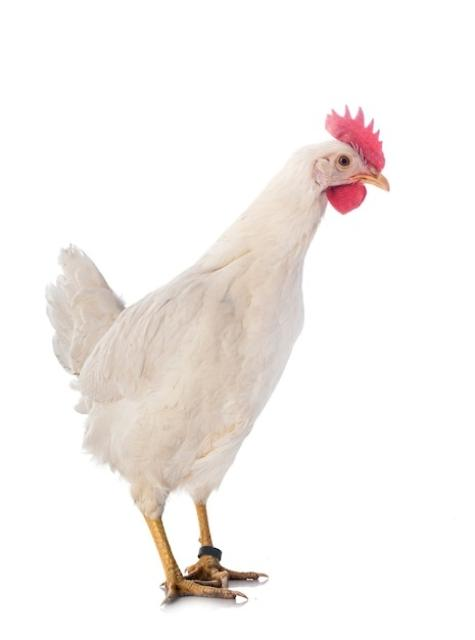Chicken: (43, 102, 392, 604)
